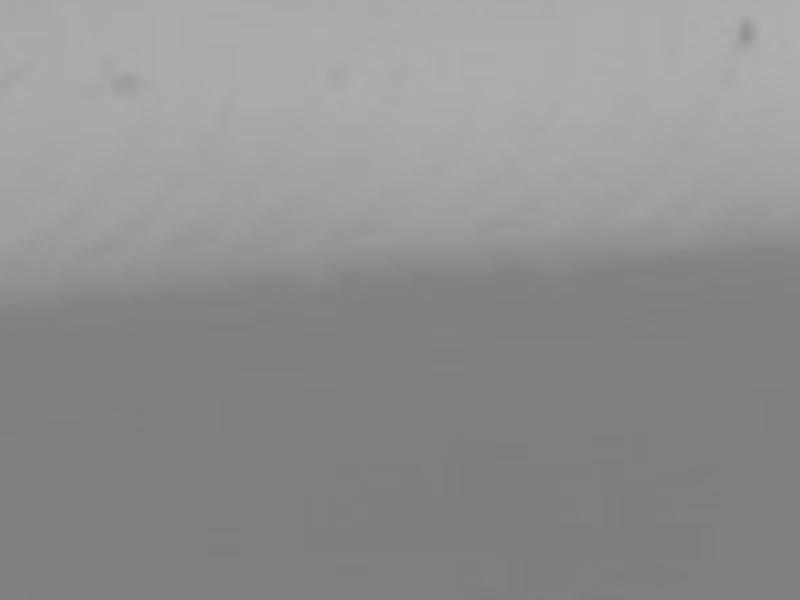defect: (115, 74, 151, 101), (740, 18, 761, 49)
